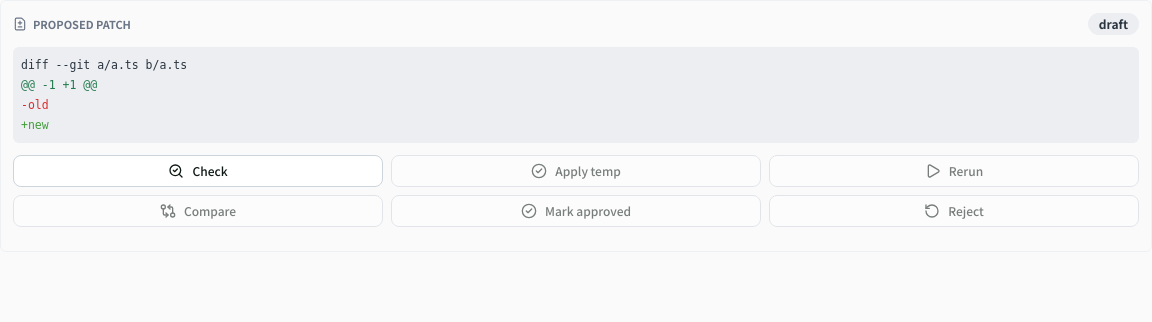
RepairReviewPanel › keeps apply disabled when patch check reports dirty files
Click the button "Check": (198, 171) [13,155,383,187]
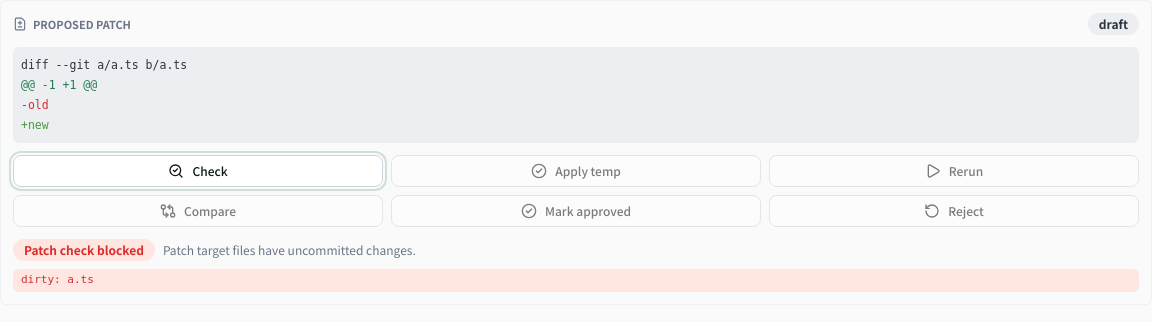
Expected: the button "Apply temp" is disabled, [391,155,761,187]
Expected: the text "Patch check blocked" is shown, [13,239,155,261]
Expected: the text "dirty: a.ts" is shown, [13,269,1139,292]
